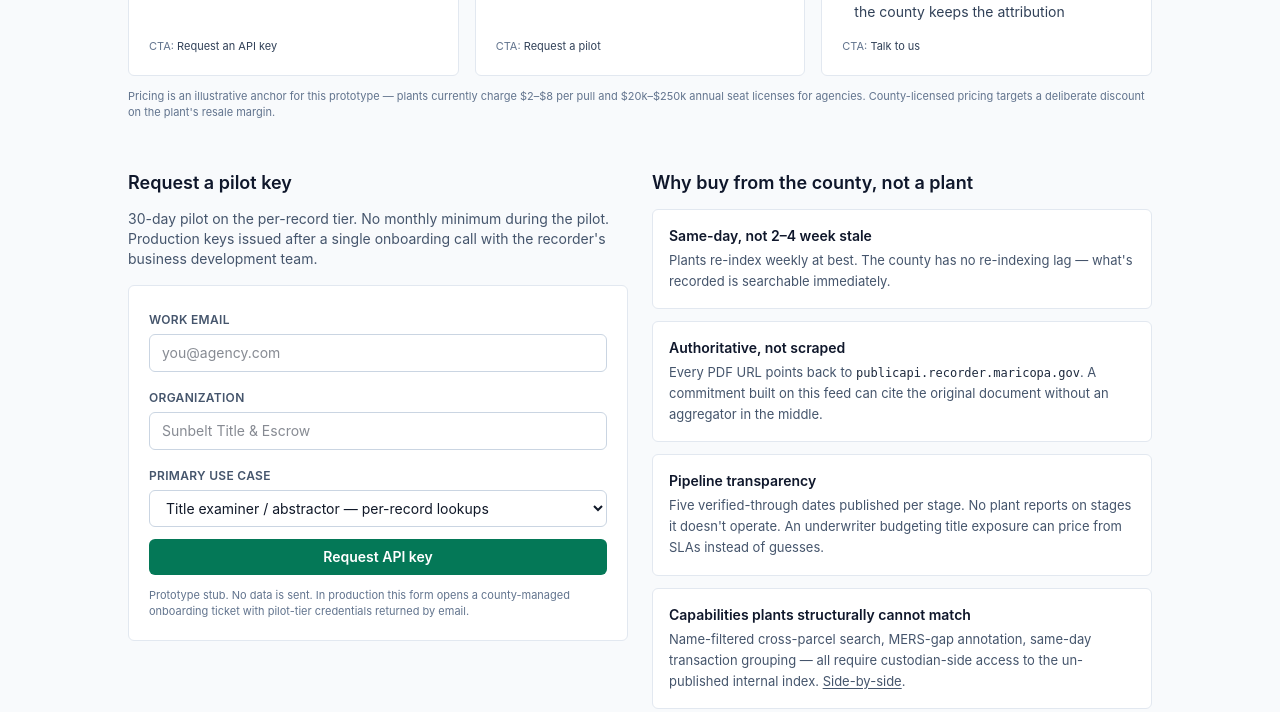
Test: EnterprisePage › API-key form transitions to a stub success state on submit
(page scrolled)
Step 1. Type "demo@agency.com" into the field with placeholder "you@agency.com" → [378, 353], box [149, 334, 607, 372]
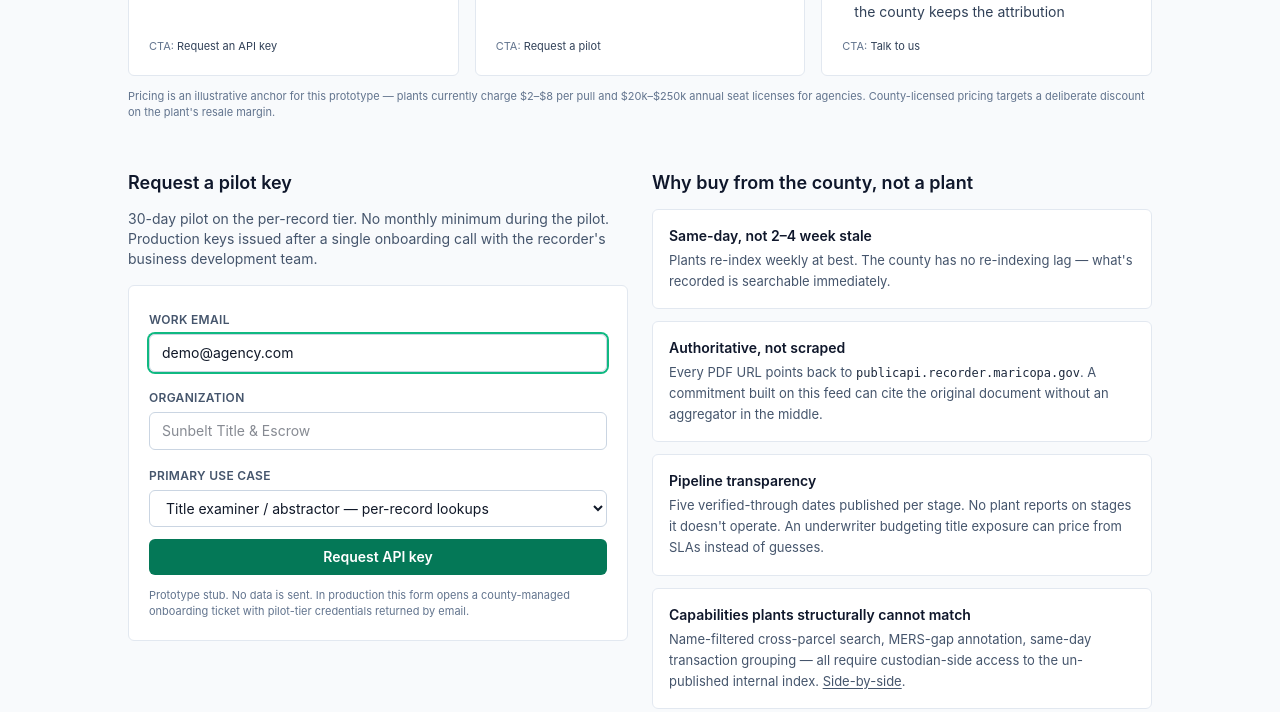
Step 2. Type "Demo Title Co" into the field with placeholder "Sunbelt Title & Escrow" → [378, 431], box [149, 412, 607, 450]
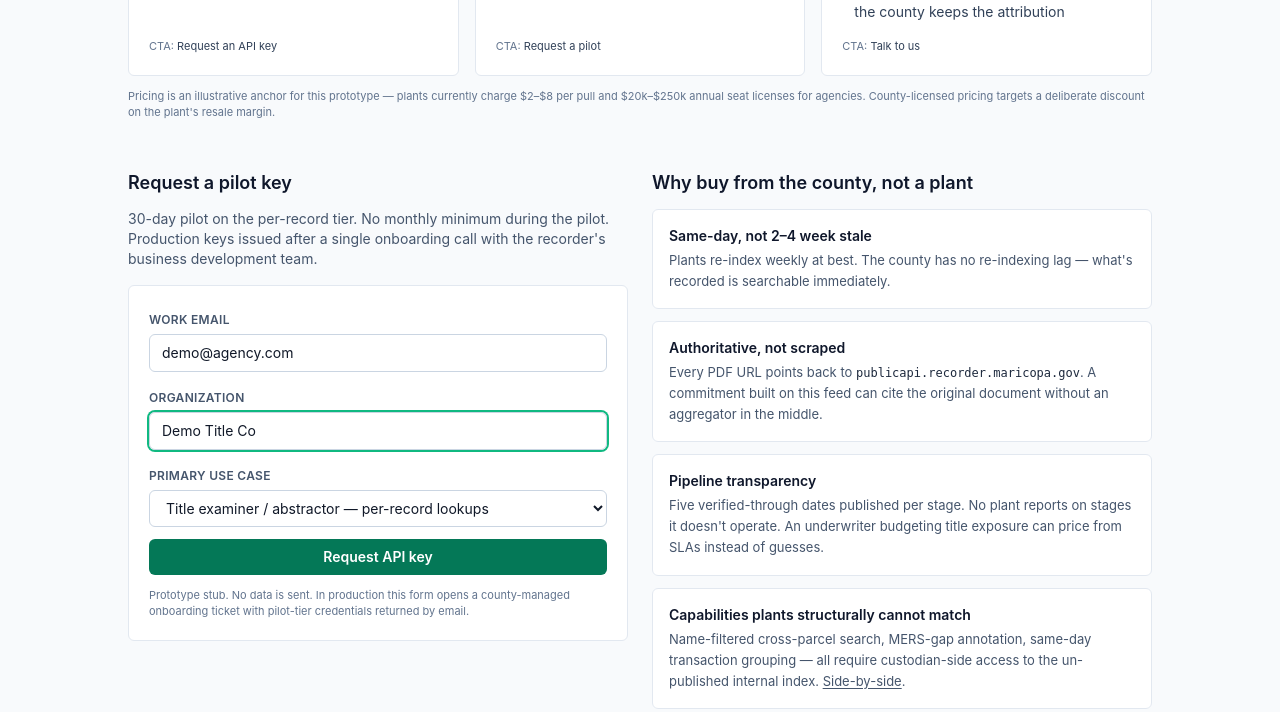
Step 3. Click the button "Request API key" → [378, 557], box [149, 539, 607, 575]
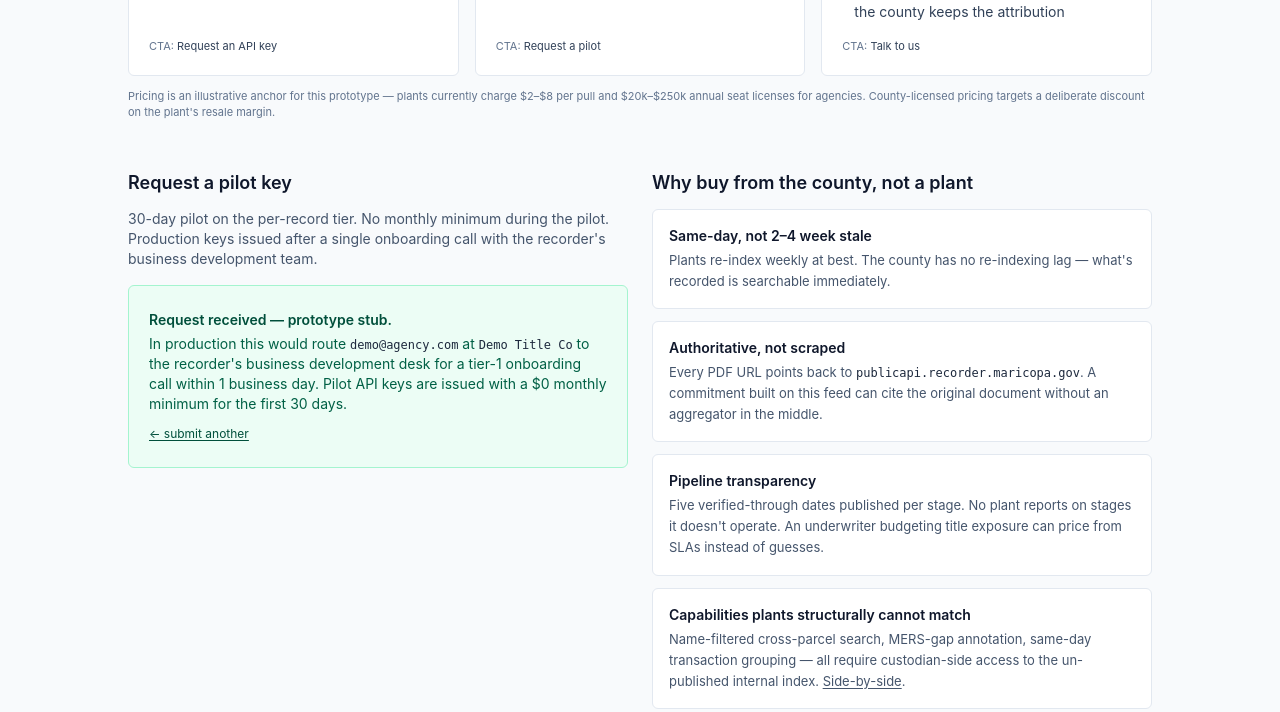
Check: the text "Request received — prototype stub." is shown, box [149, 311, 392, 328]
Check: the text "demo@agency.com" is shown, box [350, 338, 458, 352]
